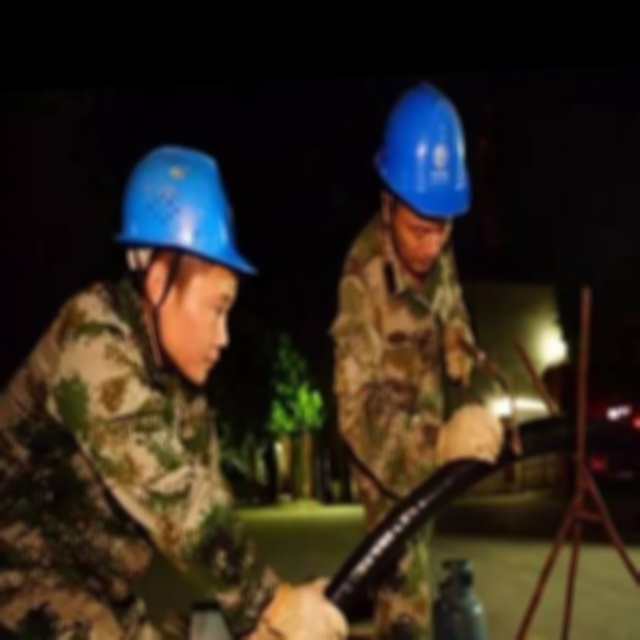Con_Casco: (116, 143, 253, 374), (374, 85, 472, 260)
